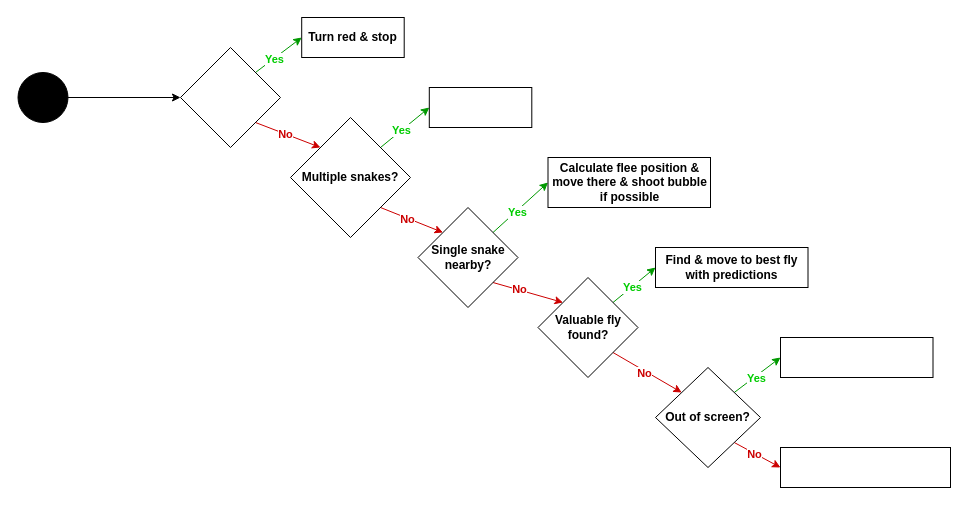
This 968x505 diagram has some shape labels left out. The shapes that lost their labels are listed below. From the top down, each one's box as (x1, y1, x2, y2) in pixels, then its label:
(180, 46, 280, 148): Health <= 0?
(428, 86, 532, 128): Freeze
(780, 336, 933, 378): Return to center
(780, 446, 950, 488): Wanders around center
